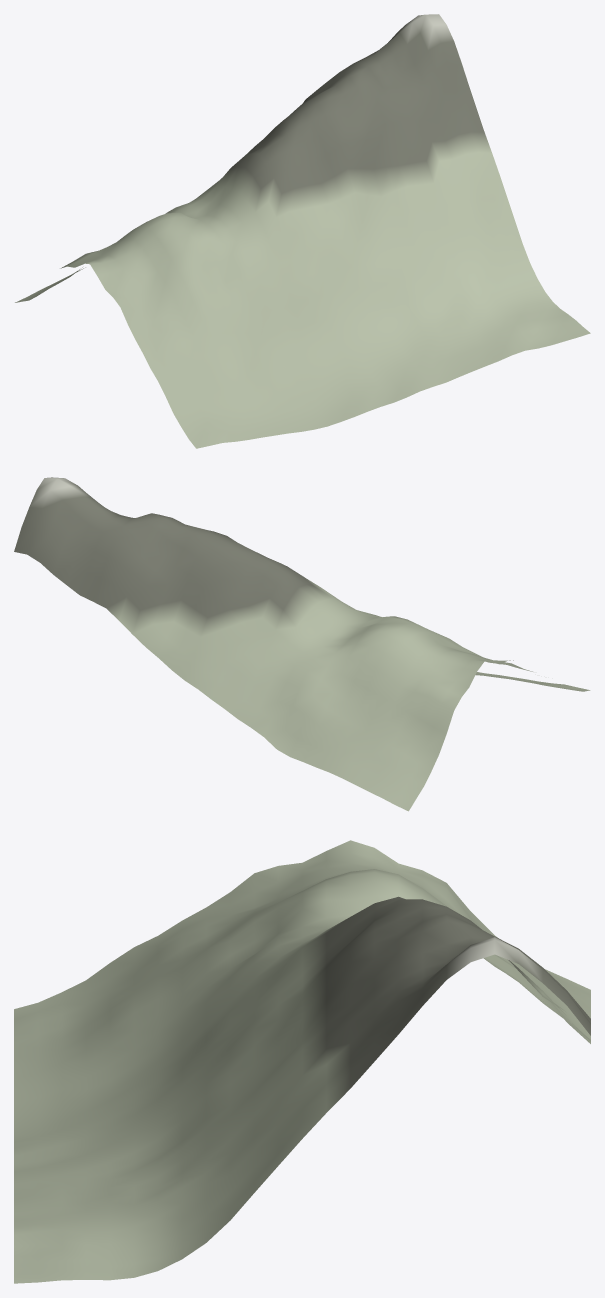
3 renders of one model, top to bottom at view 1: azimuth 30°, elevation 25°; view 2: azimuth 150°, elevation 25°; view 3: azimuth 270°, elevation 25°, orthographic. The views are drawn at different scales.
Visible parts, largest first — view 1: world-ground/120-168; view 2: world-ground/120-168; view 3: world-ground/120-168.
Boxes of the visible parts, box(x1,y1,x2,y2) form: world-ground/120-168: box(15, 14, 590, 448); world-ground/120-168: box(14, 477, 590, 811); world-ground/120-168: box(14, 840, 590, 1283).
Size of the model in its own units: 37.5 by 21.76 by 30.
